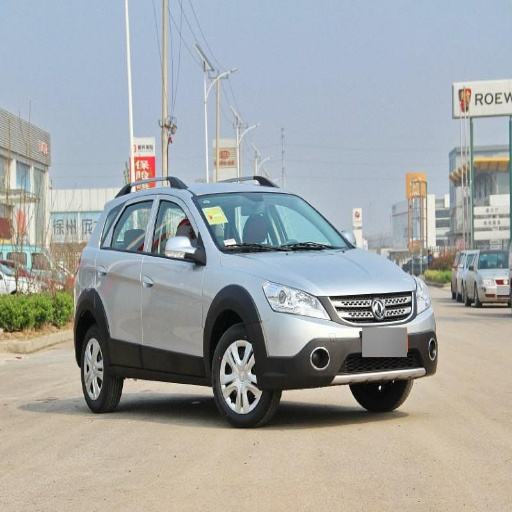front_bumper: (262, 290, 437, 387)
front_right_door: (143, 194, 206, 373)
front_right_light: (264, 283, 329, 320)
